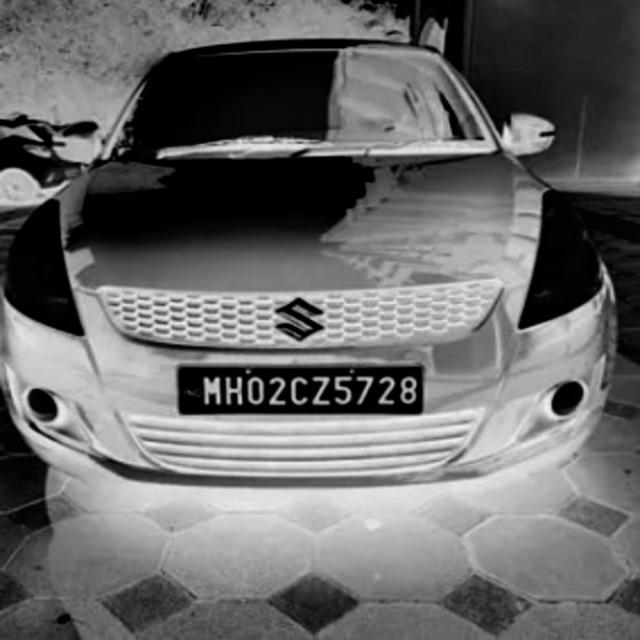0: (246, 373, 268, 408)
2: (376, 372, 398, 410), (267, 372, 289, 409)
5: (333, 373, 353, 405)
7: (355, 370, 375, 410)
8: (401, 373, 421, 411)
C: (288, 373, 312, 407)
H: (222, 373, 245, 408)
IND: (179, 372, 202, 399)
Indian_registered: (178, 365, 424, 415)
M: (203, 371, 224, 413)
Z: (310, 372, 334, 407)
